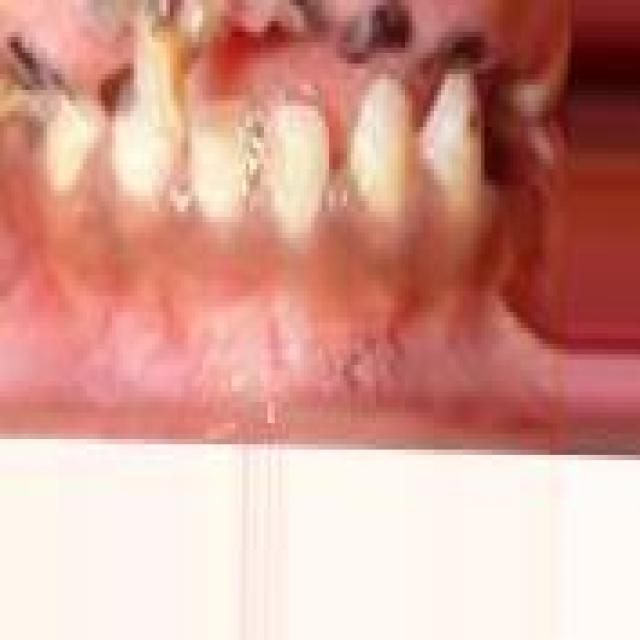caries: (118, 0, 192, 112), (201, 1, 327, 66), (325, 0, 420, 80), (442, 9, 507, 98), (7, 34, 67, 130)
